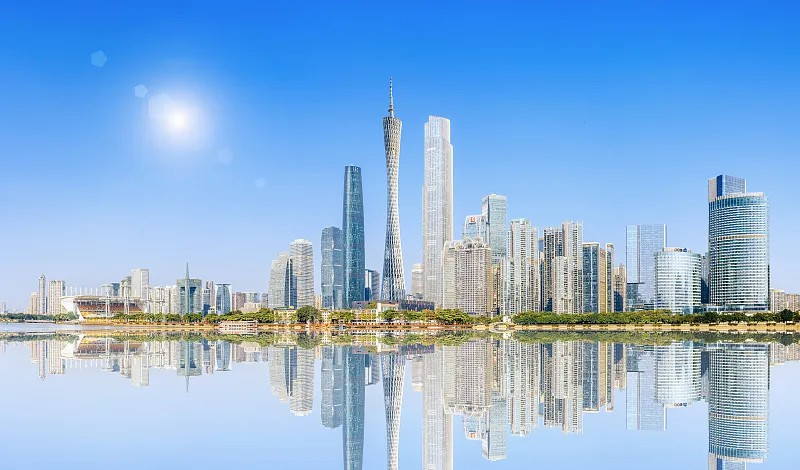Canton: (377, 78, 408, 301)
